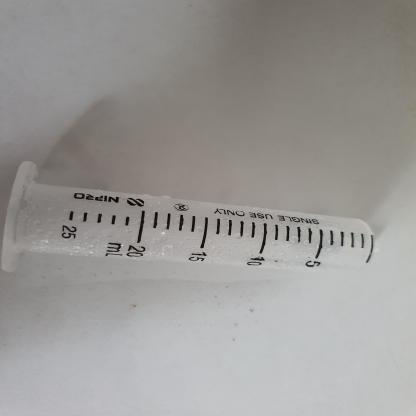wet: (4, 158, 400, 283)
